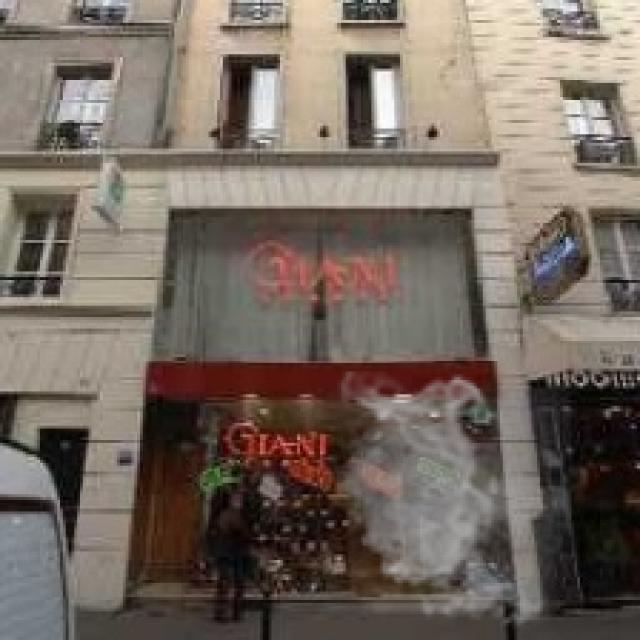Smoke: (326, 372, 572, 634)
